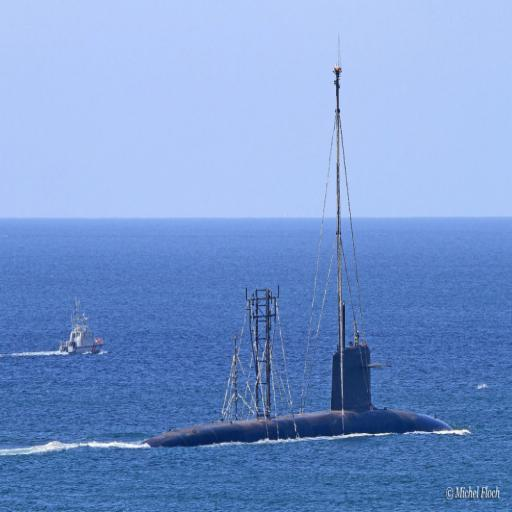submarine: (140, 343, 474, 450)
